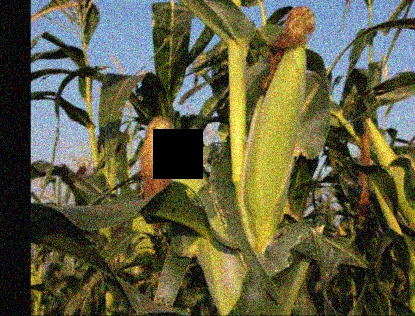corn_plant: (137, 113, 246, 315), (241, 1, 318, 248)
